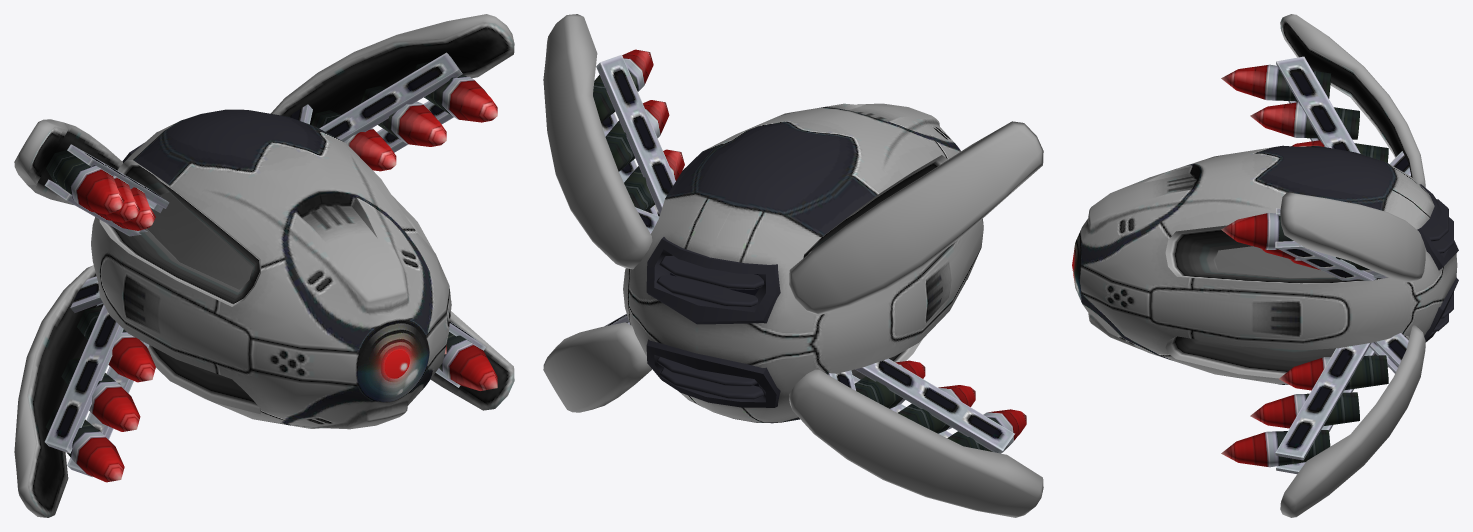
The model's file is sonic-movie-drone.glb.
3 renders of one model, left to right at view 1: azimuth 30°, elevation 25°; view 2: azimuth 150°, elevation 25°; view 3: azimuth 270°, elevation 25°, orthographic. The views are drawn at different scales.
Parts seen in each view (by area): view 1: Object_2; view 2: Object_2; view 3: Object_2.
Boxes of the visible parts, x1,y1,x2,y2 form: Object_2: (14, 14, 514, 517); Object_2: (543, 14, 1043, 517); Object_2: (1072, 14, 1458, 517).
Bounding box in the file's own units: 1.03 × 0.7816 × 0.8489.
Materials: 1 (1 with a texture image).
